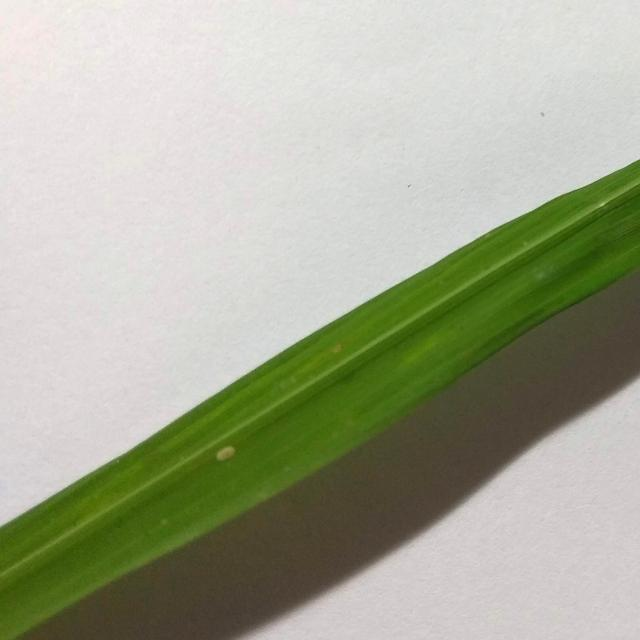Rice_Healthy: (0, 161, 640, 640)
